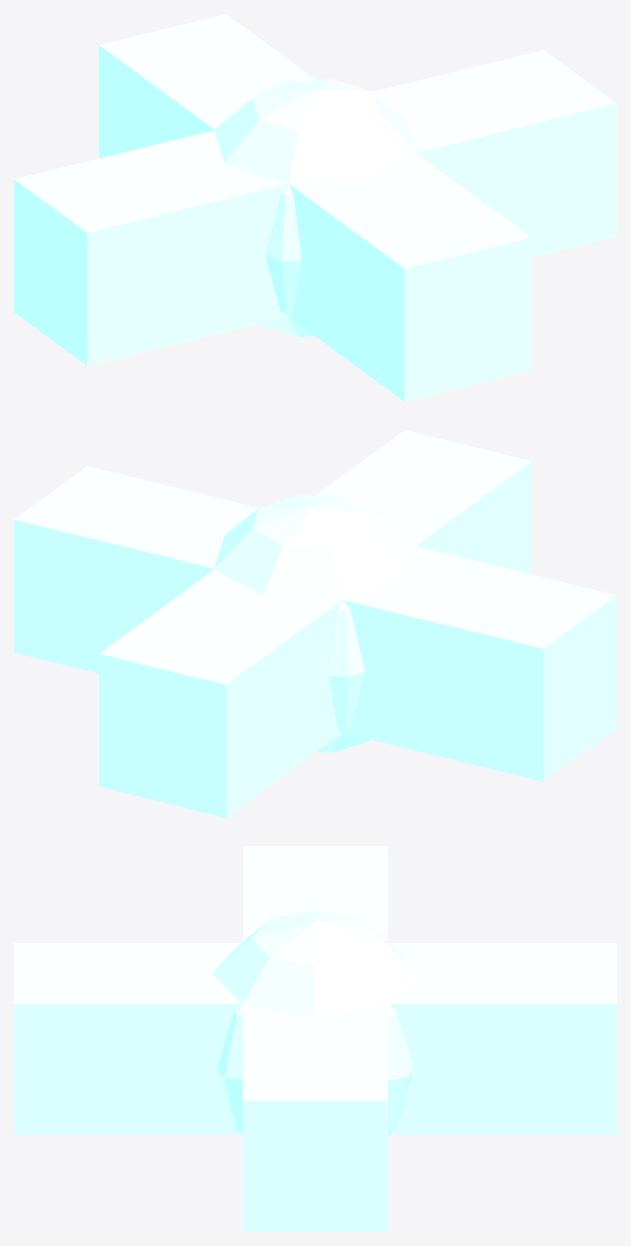
The model's file is enemy_healer.glb.
The picture shows the model from 3 angles, top to bottom: view 1: azimuth 30°, elevation 25°; view 2: azimuth 150°, elevation 25°; view 3: azimuth 270°, elevation 25°; orthographic projection.
Visible parts, largest first — view 1: enemy_healer; view 2: enemy_healer; view 3: enemy_healer.
Part boxes in pixels (x1=…): enemy_healer: x1=14, y1=14, x2=616, y2=401; enemy_healer: x1=14, y1=430, x2=616, y2=817; enemy_healer: x1=14, y1=846, x2=616, y2=1231.
Bounding box in the file's own units: 0.375 × 0.16 × 0.375.
